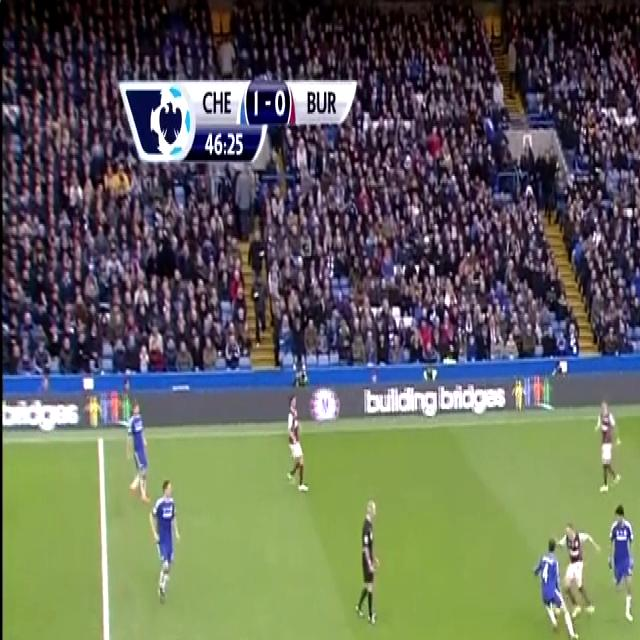referee: (352, 488, 388, 635)
soccer-player: (142, 471, 186, 606), (525, 533, 572, 640), (602, 496, 640, 623), (560, 507, 599, 627), (121, 392, 152, 502), (279, 389, 308, 502), (593, 390, 623, 498)
